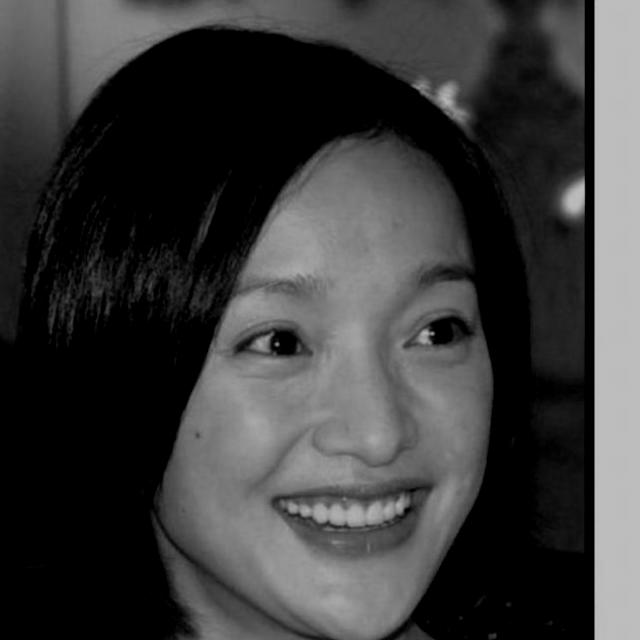real: (136, 79, 518, 640)
